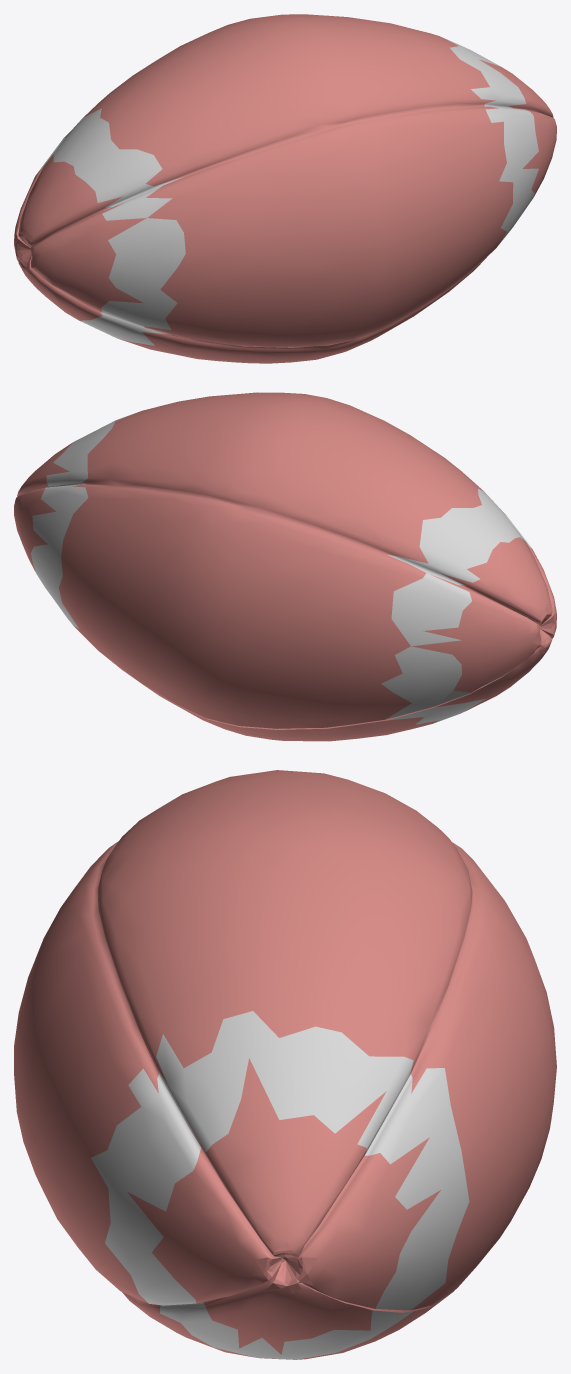
The model's file is VIS_Obj_5_Football.dae.
3 renders of one model, top to bottom at view 1: azimuth 30°, elevation 25°; view 2: azimuth 150°, elevation 25°; view 3: azimuth 270°, elevation 25°, orthographic. The views are drawn at different scales.
Visible parts, largest first — view 1: VIS_Obj_5_Football; view 2: VIS_Obj_5_Football; view 3: VIS_Obj_5_Football.
Boxes of the visible parts, <box> form: VIS_Obj_5_Football: <box>14,14,556,363</box>; VIS_Obj_5_Football: <box>14,392,556,741</box>; VIS_Obj_5_Football: <box>14,770,556,1359</box>.
Bounding box in the file's own units: 4.84 × 2.76 × 2.76.
